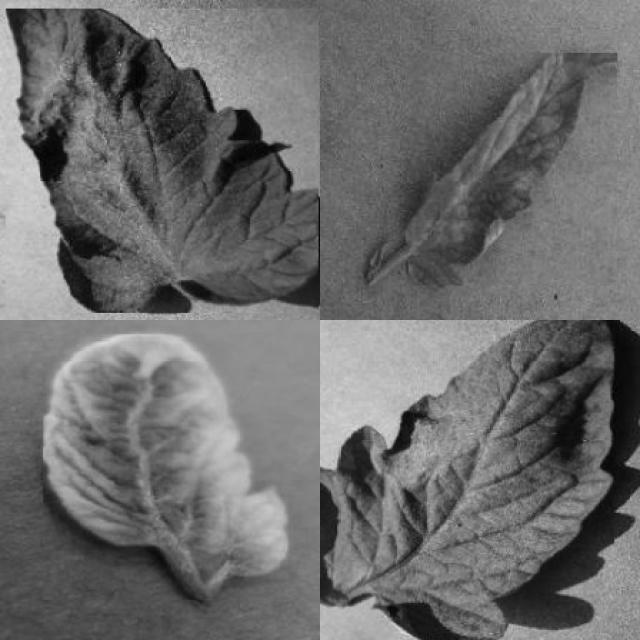Late Blight: (5, 8, 318, 313), (320, 320, 614, 640)
Leaf Mold: (406, 53, 618, 286)
Yellow Leaf Curl Virus: (43, 334, 288, 600)
